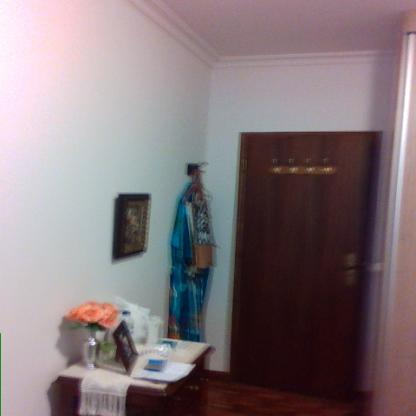closed: (222, 122, 390, 406)
